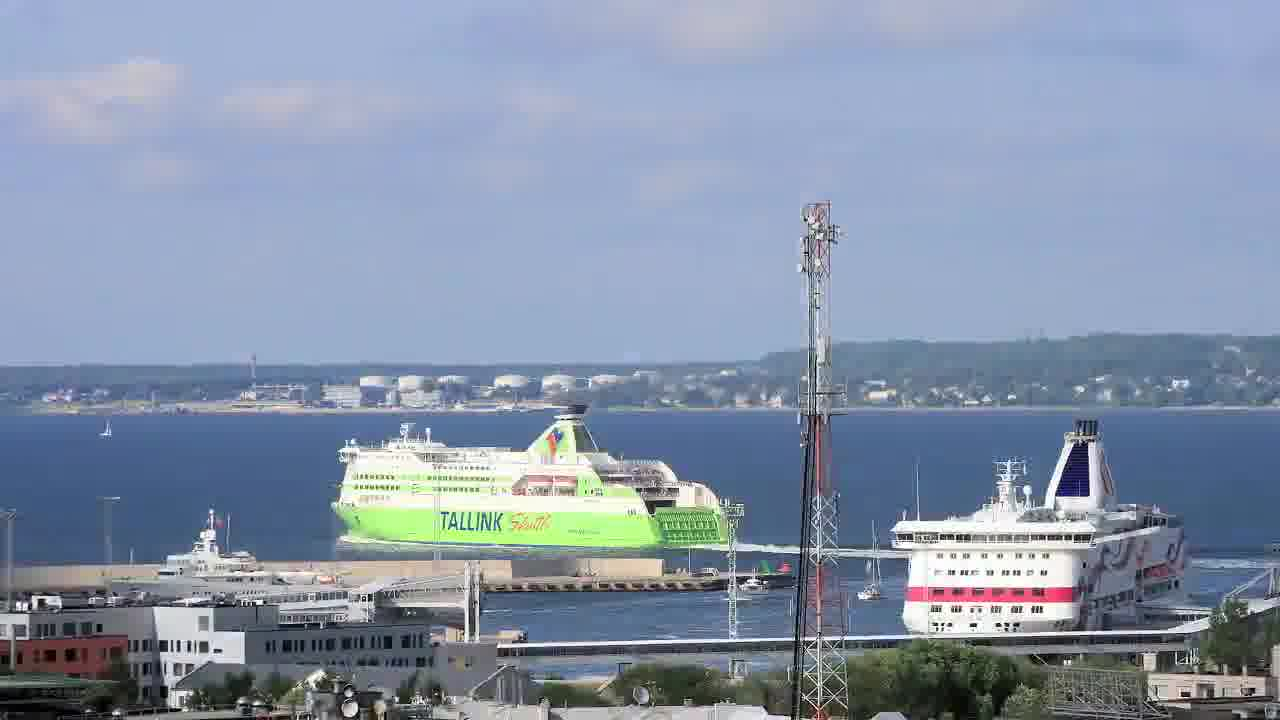type-0: (843, 550, 889, 612), (723, 563, 774, 607)
type-2: (81, 403, 132, 456)
type-3: (868, 415, 1225, 638), (324, 401, 755, 554), (84, 511, 353, 609)
